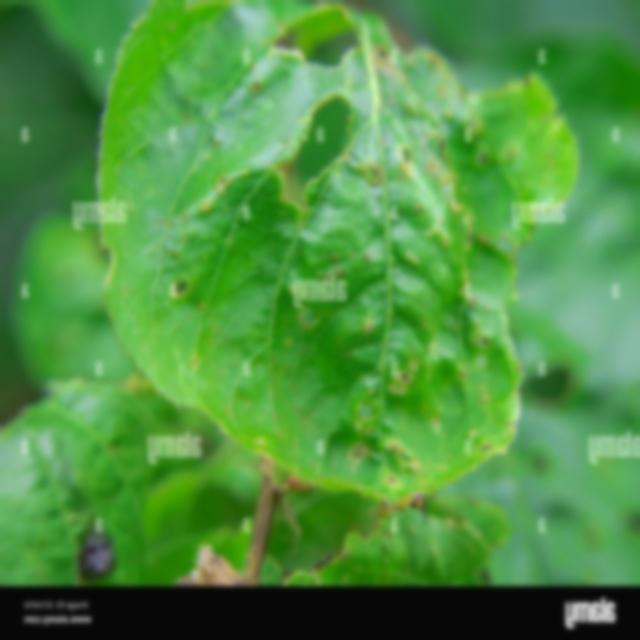leaf_curl: (189, 7, 536, 432)
